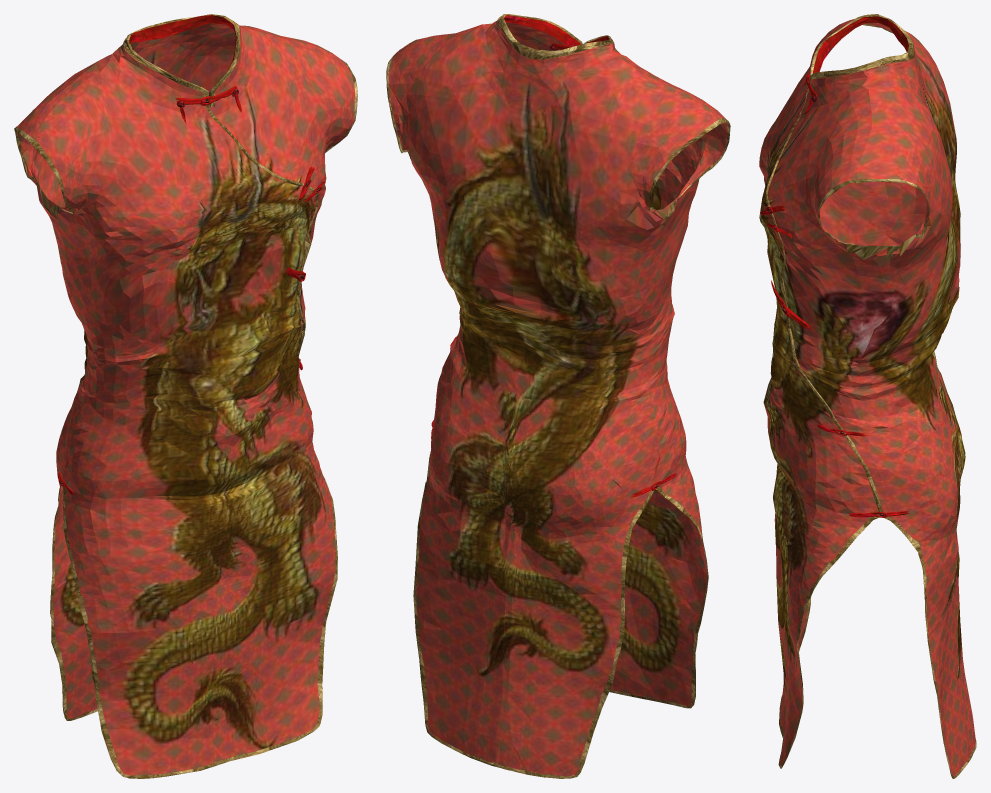
File: mhw_elvs_fashion_stylized_qipoa.glb
The picture shows the model from 3 angles, left to right: view 1: azimuth 30°, elevation 25°; view 2: azimuth 150°, elevation 25°; view 3: azimuth 270°, elevation 25°; orthographic projection.
Visible parts, largest first — view 1: mhw_elvs_fashion_stylized_qipoa; view 2: mhw_elvs_fashion_stylized_qipoa; view 3: mhw_elvs_fashion_stylized_qipoa.
Part boxes in pixels (box(x1,y1,x2,y2)): mhw_elvs_fashion_stylized_qipoa: box(14, 14, 357, 778); mhw_elvs_fashion_stylized_qipoa: box(386, 14, 730, 778); mhw_elvs_fashion_stylized_qipoa: box(759, 14, 976, 778).
Bounding box in the file's own units: 0.5111 × 1.08 × 0.3008.
1 material, 1 textured.
